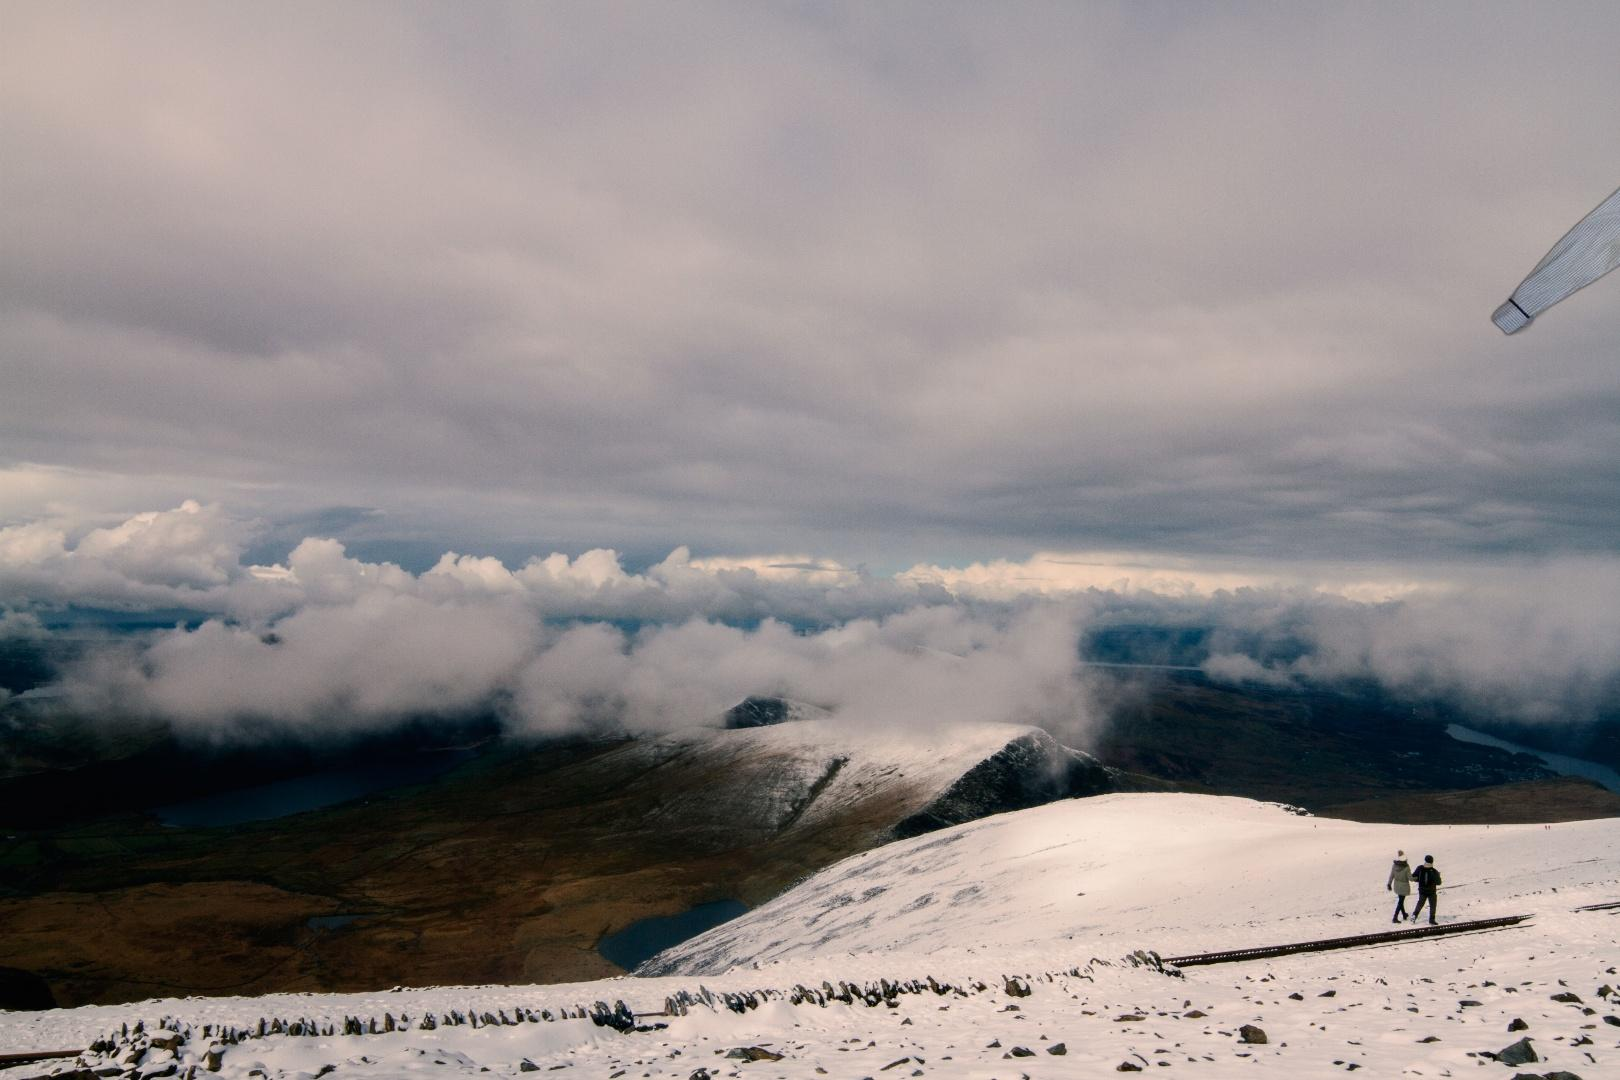clothes: (1487, 115, 1620, 409)
